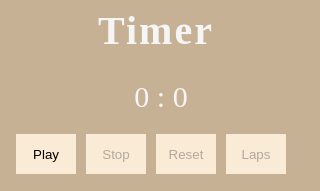
it: Stopwatch › it should reset the timer on pressing reset button
Click the button with test id "play": (46, 154) [16, 134, 76, 174]
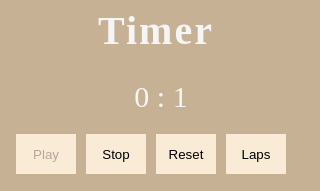
Click the button "Reset": (186, 154) [156, 134, 216, 174]
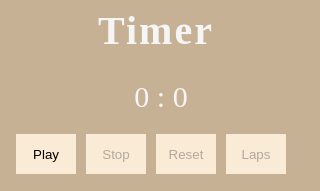
Expected: the text "0 :" is shown, [124, 80, 173, 113]
Result: the text "0" is shown at [173, 80, 188, 113]
Result: the button "Stop" is disabled at [86, 134, 146, 174]
